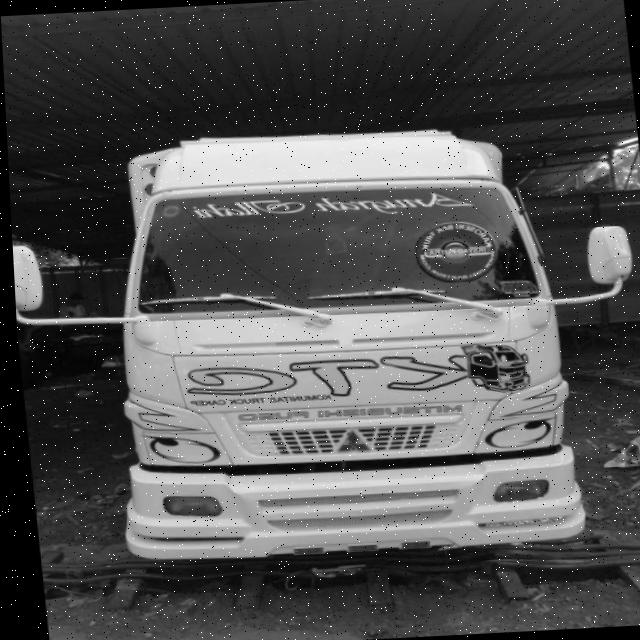truck: (5, 96, 640, 597)
